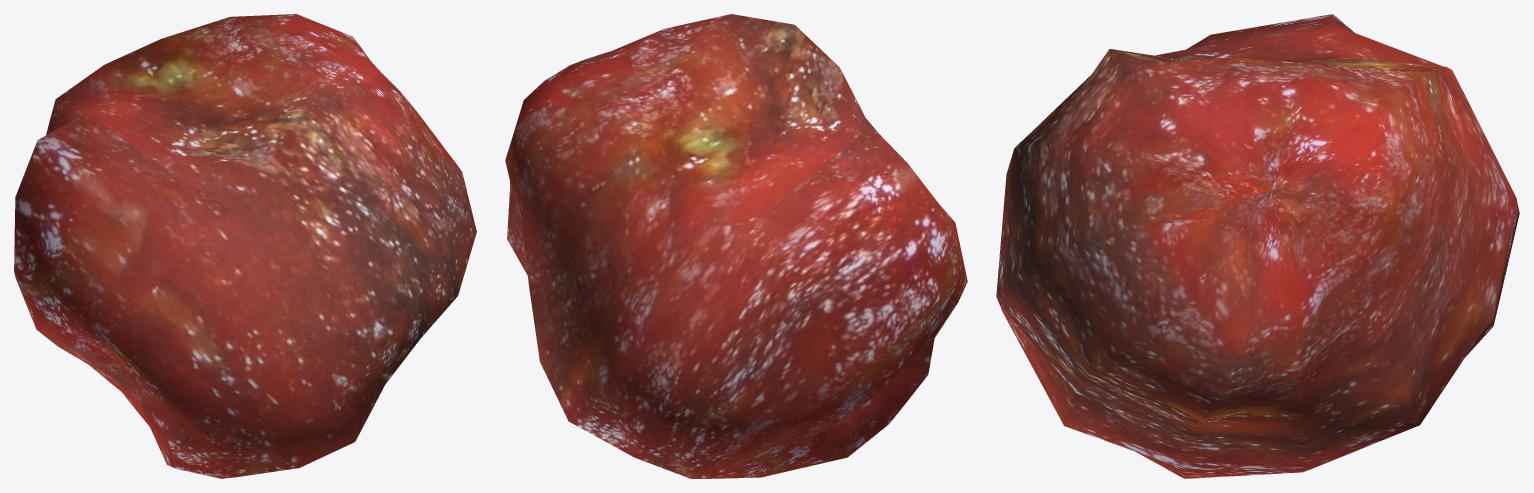
Rendered from GoreChunk_Large.fbx.
The picture shows the model from 3 angles, left to right: view 1: azimuth 30°, elevation 25°; view 2: azimuth 150°, elevation 25°; view 3: azimuth 270°, elevation 25°; orthographic projection. The views are drawn at different scales.
Visible parts, largest first — view 1: GoreBot6; view 2: GoreBot6; view 3: GoreBot6.
Part boxes in pixels (x1,y1,x2,y2): GoreBot6: (14, 14, 476, 478); GoreBot6: (505, 14, 967, 478); GoreBot6: (996, 14, 1519, 478).
Size of the model in its own units: 56.8 by 49.85 by 53.99.
Materials: 1 (1 with a texture image).
